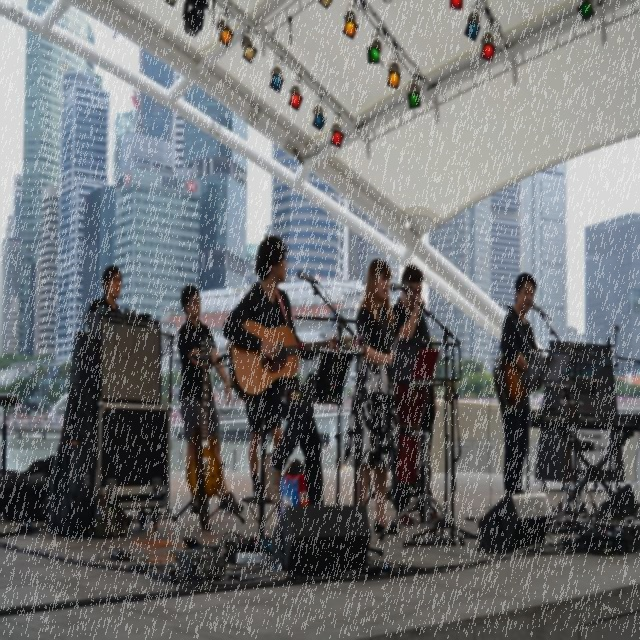pessoa: (221, 233, 341, 510), (341, 255, 403, 538), (175, 281, 246, 517), (391, 262, 444, 526), (491, 269, 546, 516), (226, 279, 286, 501), (86, 263, 127, 315), (0, 409, 65, 428), (171, 416, 182, 425), (335, 458, 343, 469), (324, 442, 328, 450), (222, 415, 226, 421), (288, 459, 290, 467), (332, 404, 334, 411)
